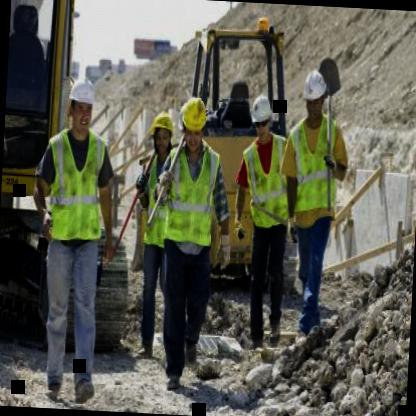helmet: (64, 69, 99, 139), (300, 61, 332, 120), (177, 92, 209, 150), (247, 90, 274, 140), (149, 108, 177, 156)
